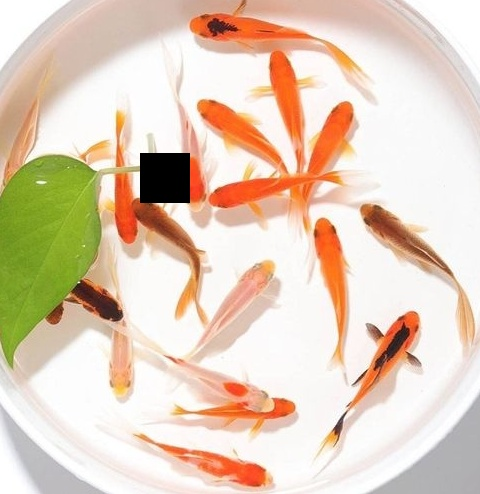fry: (343, 301, 430, 461), (360, 196, 474, 305), (137, 428, 276, 494), (205, 249, 282, 349), (308, 211, 361, 349), (185, 4, 331, 53), (192, 82, 276, 159), (167, 79, 210, 215), (135, 192, 199, 282), (182, 357, 274, 416), (252, 50, 310, 143), (208, 167, 334, 207), (101, 321, 149, 416), (2, 90, 49, 185), (107, 119, 140, 249), (195, 395, 302, 430), (313, 92, 356, 158), (76, 279, 129, 329), (43, 306, 64, 328)
